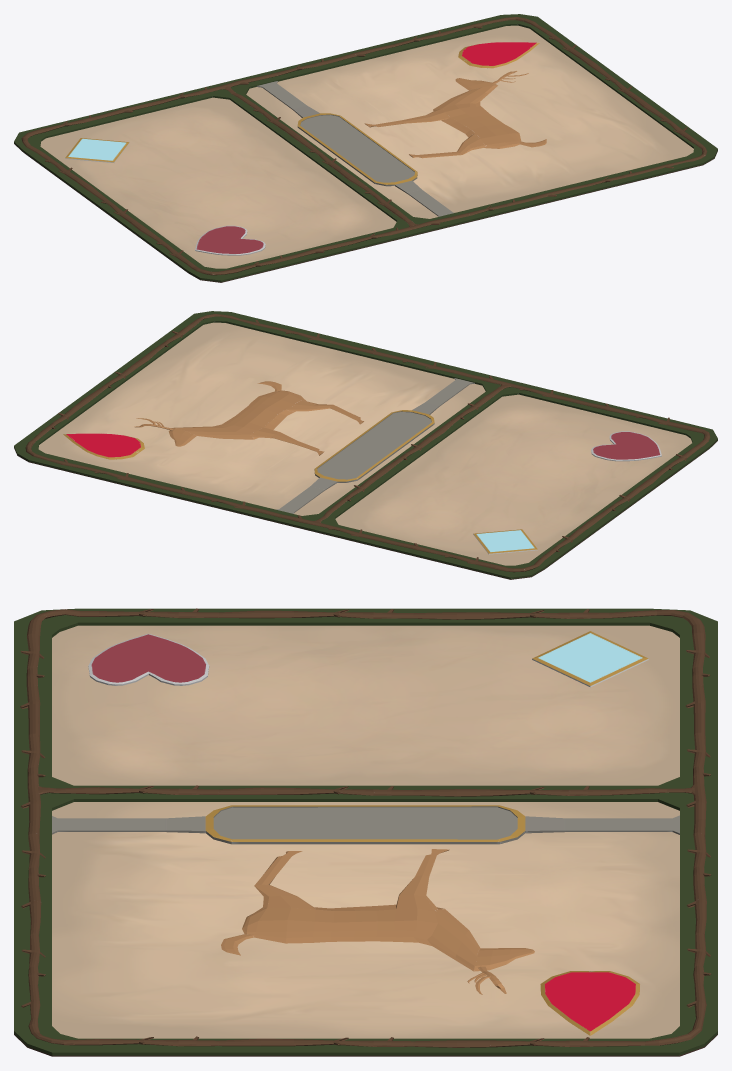
File: Deer_Card.fbx
3 renders of one model, top to bottom at view 1: azimuth 30°, elevation 25°; view 2: azimuth 150°, elevation 25°; view 3: azimuth 270°, elevation 25°, orthographic. The views are drawn at different scales.
Visible parts, largest first — view 1: Deer_Card; view 2: Deer_Card; view 3: Deer_Card.
Part boxes in pixels (x1,y1,x2,y2): Deer_Card: [14, 14, 717, 282]; Deer_Card: [14, 311, 717, 579]; Deer_Card: [14, 608, 717, 1056].
Size of the model in its own units: 25.02 by 0.2846 by 16.77.
